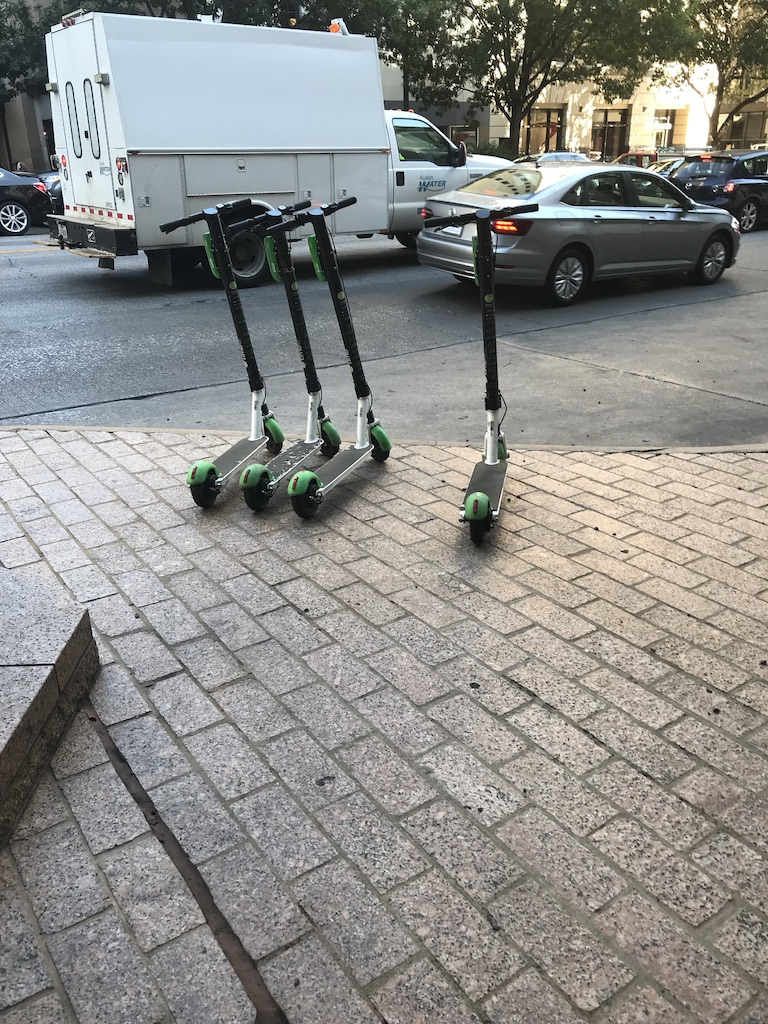scooter: (269, 197, 392, 520), (159, 196, 285, 509), (425, 204, 539, 544), (240, 235, 342, 514), (228, 201, 313, 235)
